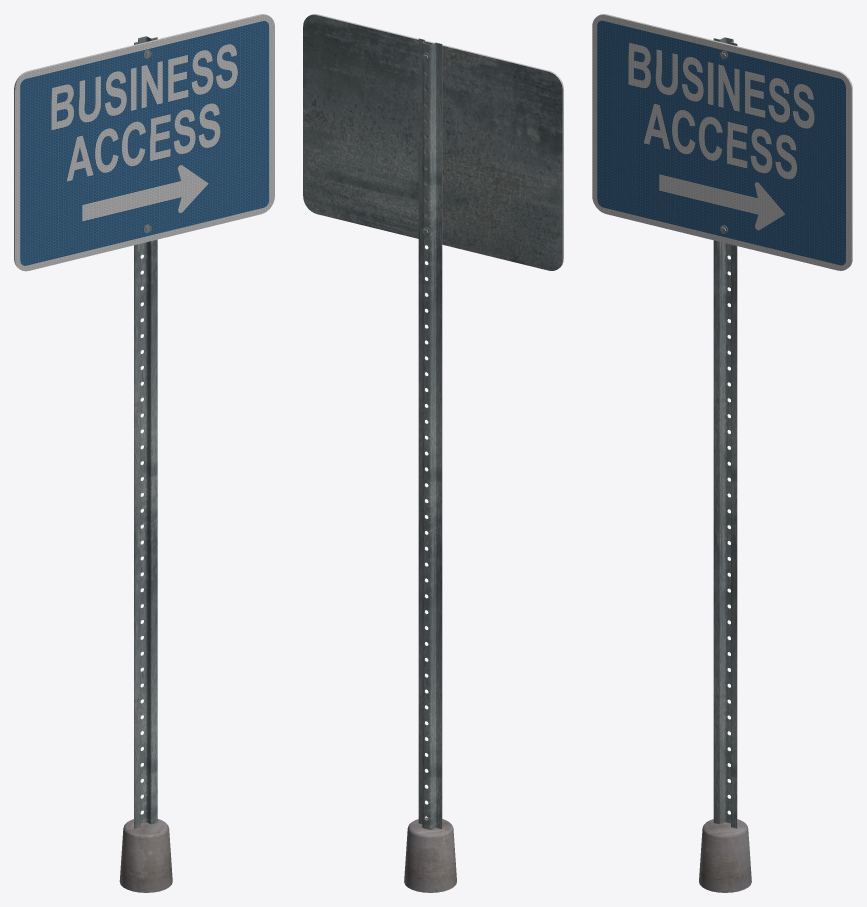
The model's file is businessaccess_nsoc.obj.
3 views of the same model, side by side, from view 1: azimuth 30°, elevation 25°; view 2: azimuth 150°, elevation 25°; view 3: azimuth 330°, elevation 25° (orthographic).
Parts seen in each view (by area): view 1: sign_business_access; view 2: sign_business_access; view 3: sign_business_access.
Part boxes in pixels (x1,y1,x2,y2): sign_business_access: (14,14,274,892); sign_business_access: (303,14,563,892); sign_business_access: (592,14,852,892).
Size of the model in its own units: 33.06 by 102 by 5.84.
Materials: 3 (3 with a texture image).
